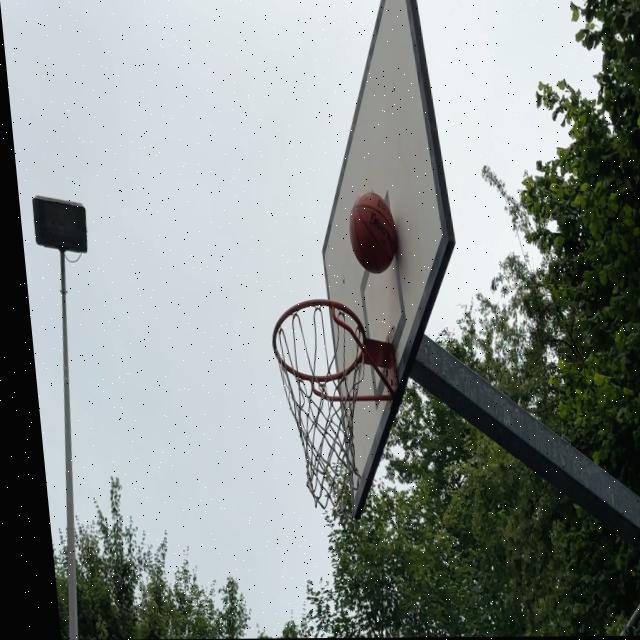rebound_hit: (347, 193, 403, 276)
